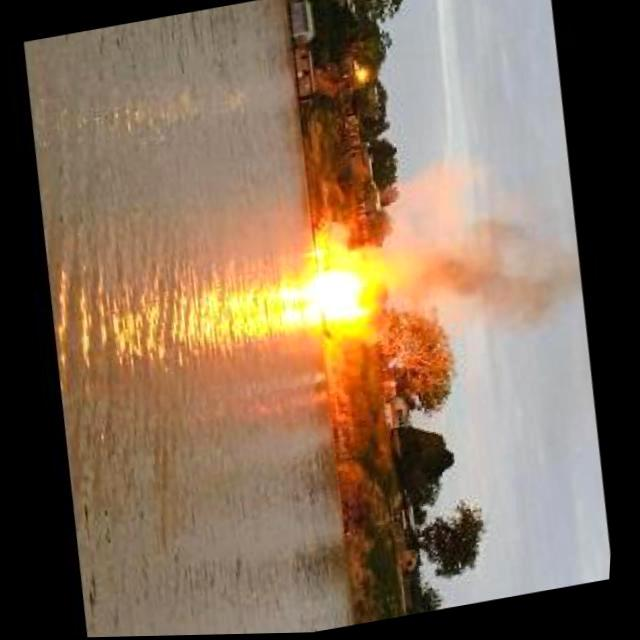fire: (374, 194, 578, 356), (311, 231, 383, 335)
